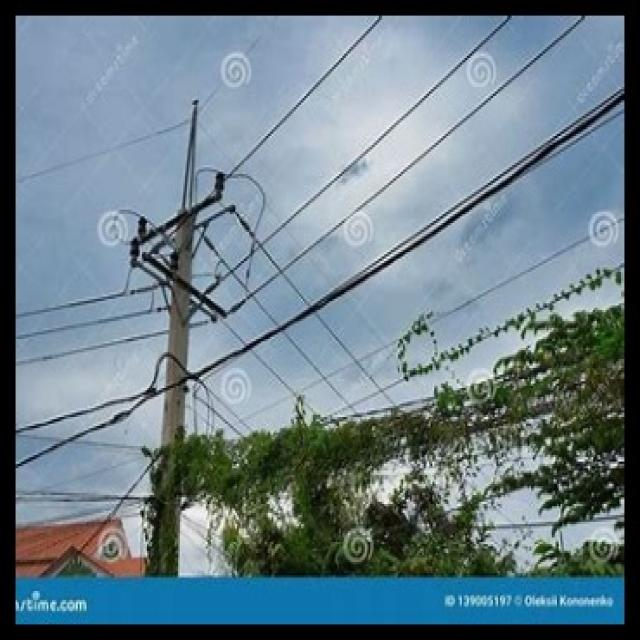critical vegetation: (177, 374, 626, 545)
